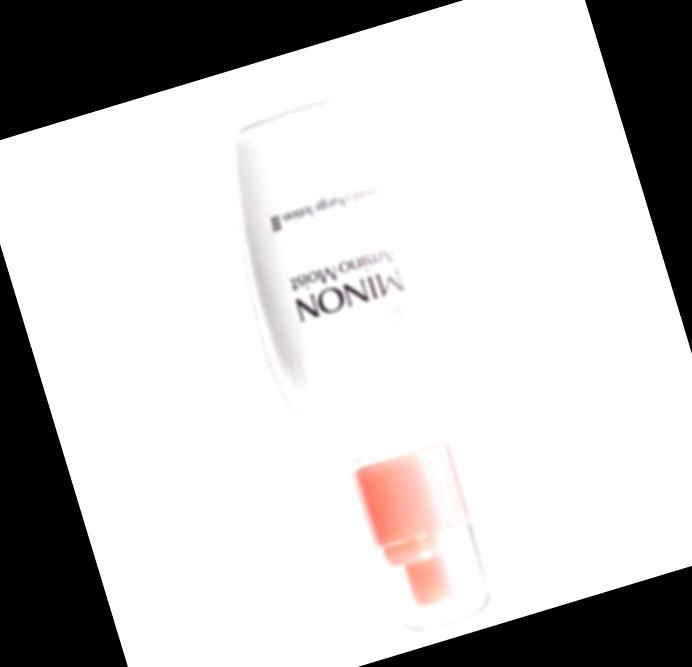cosmetic: (197, 77, 546, 657)
